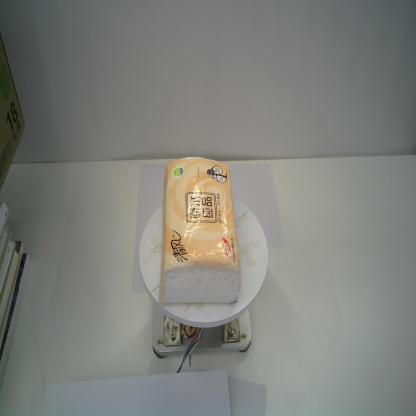Tissue: (156, 154, 242, 308)
